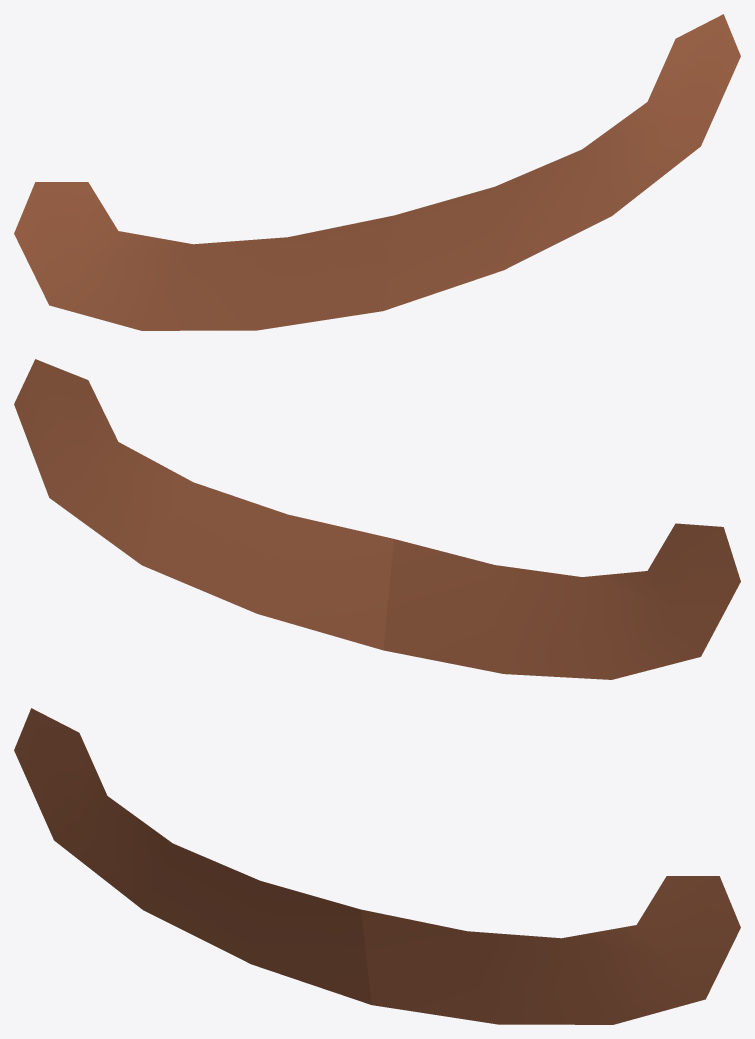
The model's file is Mouth_Yellow_2.fbx.
3 views of the same model, one above another, from view 1: azimuth 30°, elevation 25°; view 2: azimuth 150°, elevation 25°; view 3: azimuth 330°, elevation 25° (orthographic).
Visible parts, largest first — view 1: Mouth_Yellow_2; view 2: Mouth_Yellow_2; view 3: Mouth_Yellow_2.
Boxes of the visible parts, x1=… form: Mouth_Yellow_2: x1=14, y1=14, x2=740, y2=330; Mouth_Yellow_2: x1=14, y1=359, x2=740, y2=679; Mouth_Yellow_2: x1=14, y1=708, x2=740, y2=1024.
Size of the model in its own units: 8.79 by 2.43 by 0.3997.
